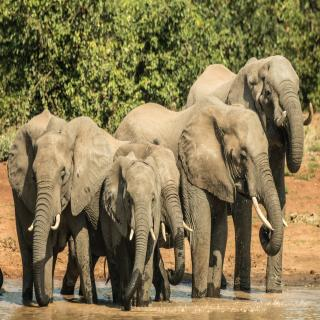Elephant: (113, 100, 284, 301), (5, 108, 114, 298), (192, 47, 319, 186)
